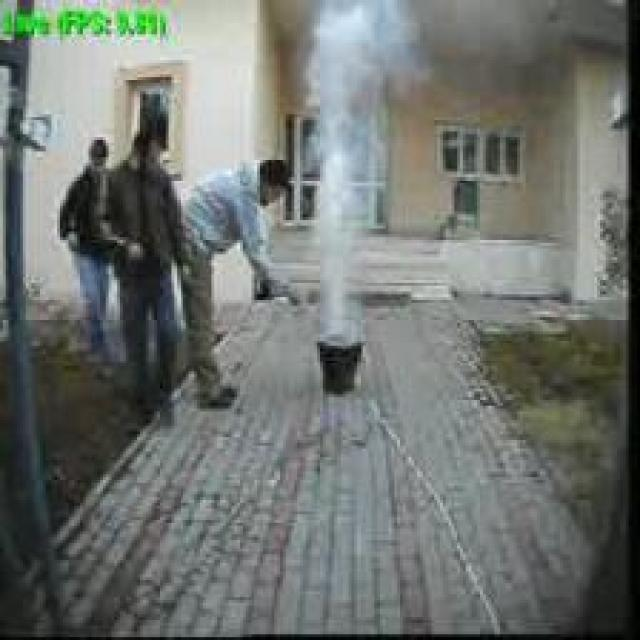Smoke: (307, 0, 422, 343)
